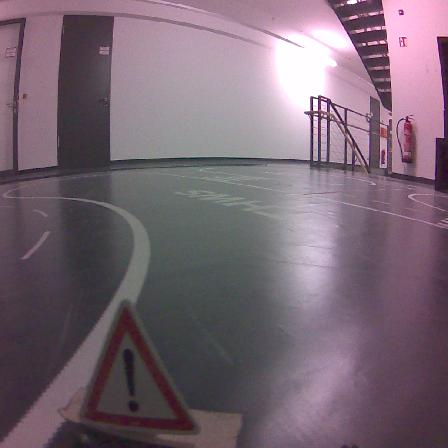ATTENTION: (80, 301, 198, 433)
